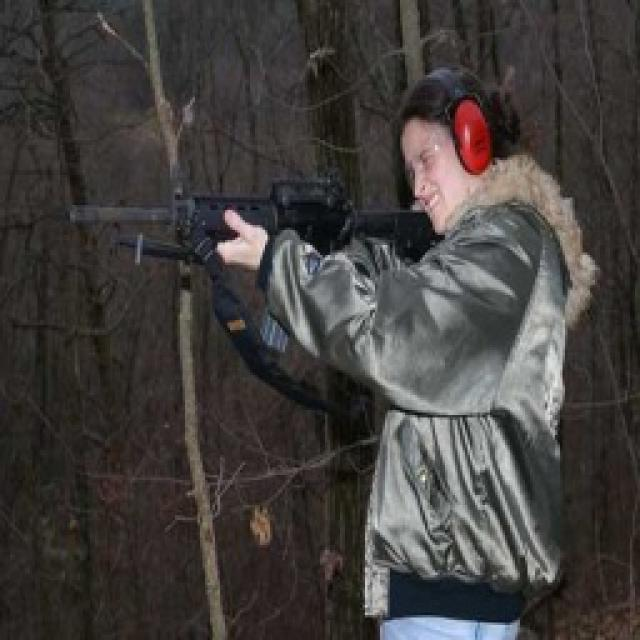long weapon: (58, 167, 413, 286)
